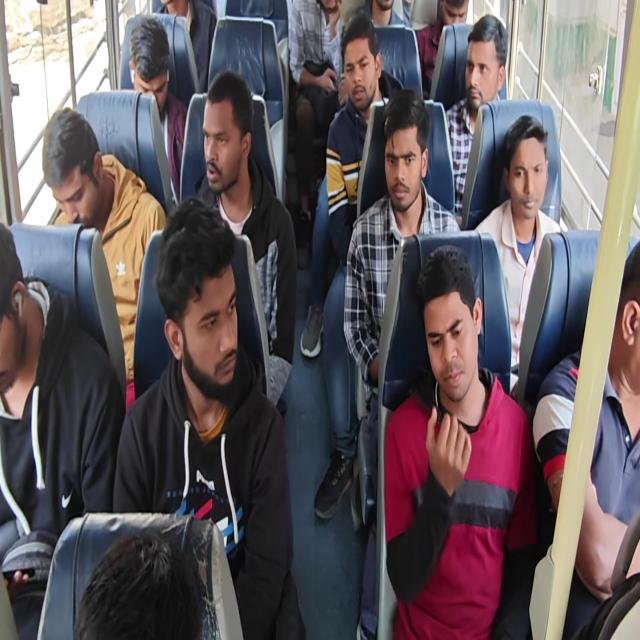person: (402, 267, 502, 425), (169, 218, 257, 391), (378, 97, 436, 224), (0, 222, 42, 392), (38, 118, 103, 224), (496, 118, 555, 226), (193, 87, 249, 197), (602, 247, 640, 403), (459, 22, 508, 123), (342, 25, 382, 117), (128, 27, 174, 102), (432, 0, 470, 40), (367, 0, 402, 18)
